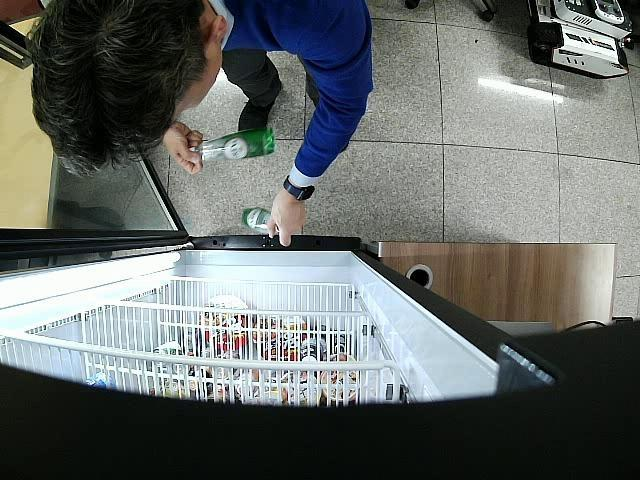18_trevi: (190, 128, 274, 163), (242, 208, 280, 232)
